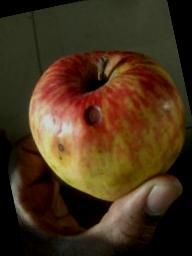Apple Overripe: (10, 23, 192, 221)
